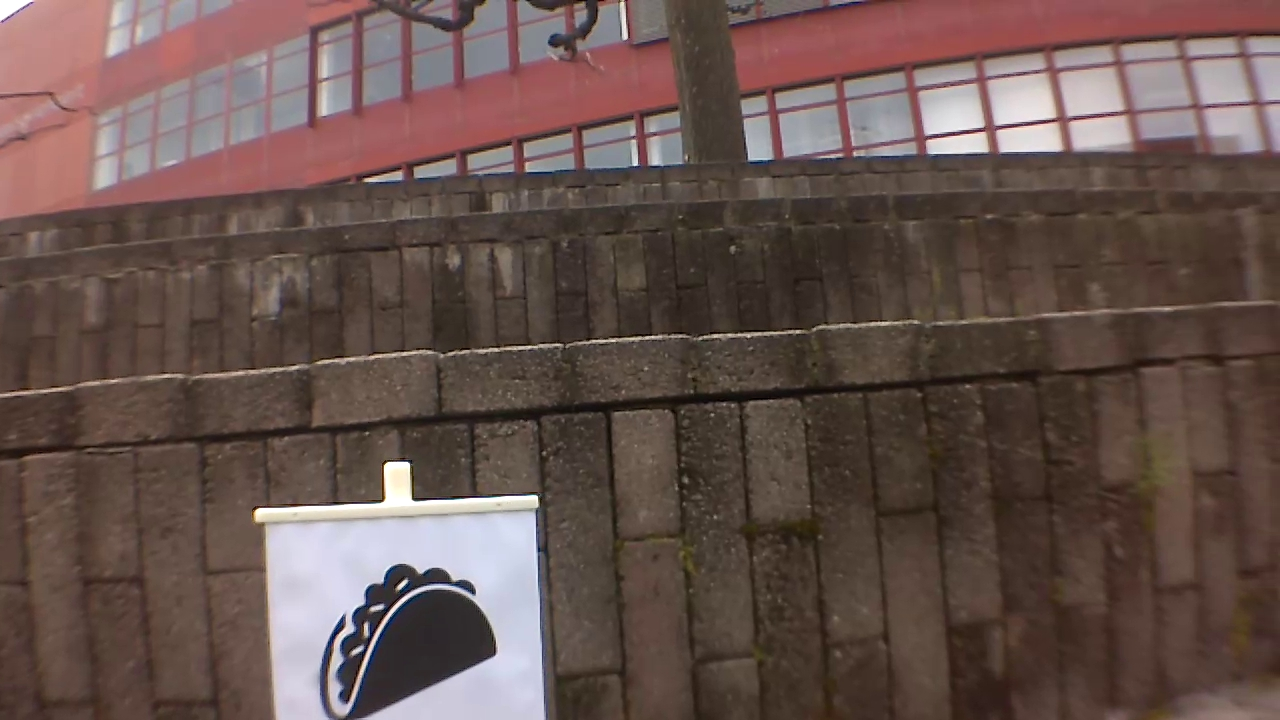taco: (312, 551, 507, 720)
